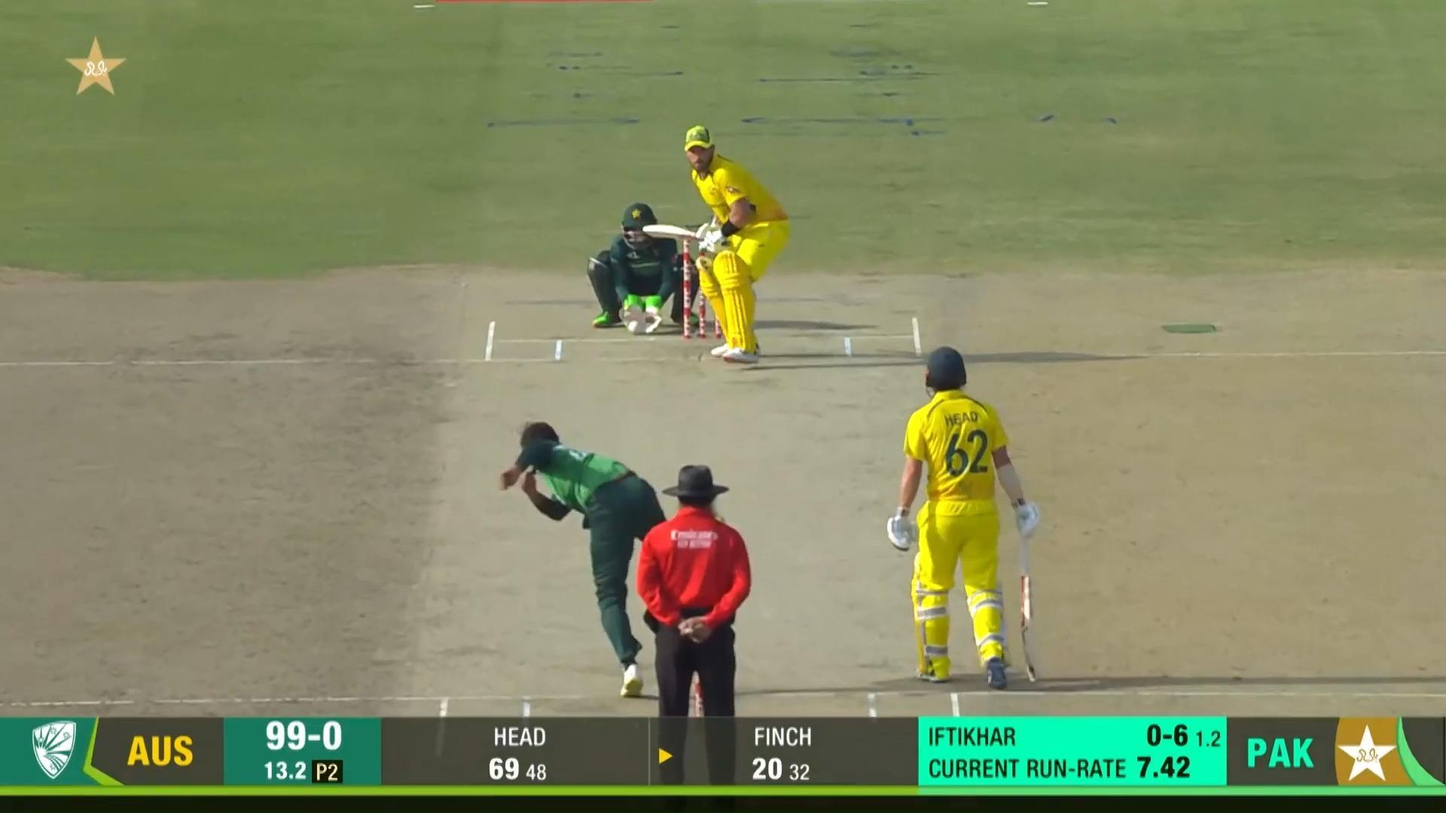BM 1: (641, 123, 793, 365)
BO: (498, 419, 668, 699)
